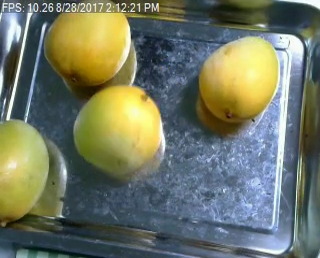Mango: (39, 1, 131, 86), (73, 85, 162, 172), (200, 36, 279, 120), (0, 118, 49, 226)
